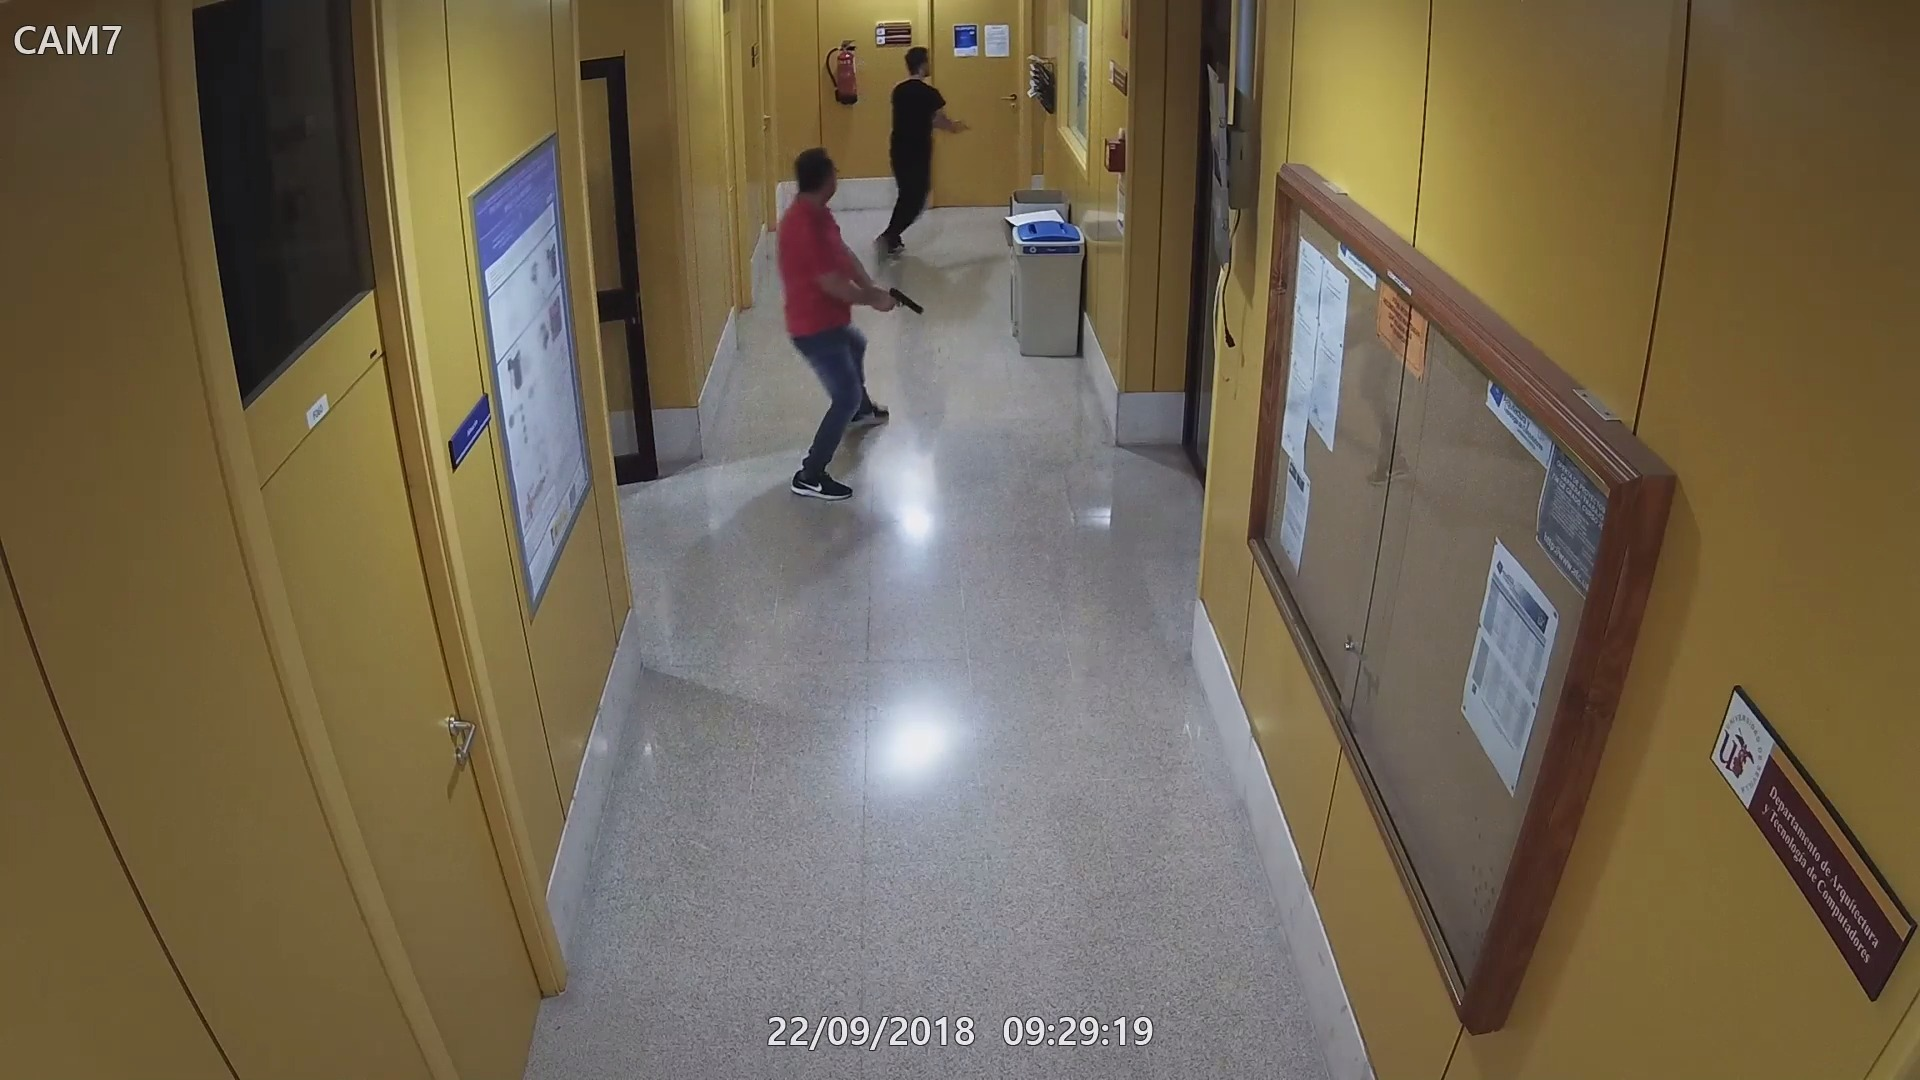pistol: (870, 286, 924, 318), (945, 113, 973, 138)
